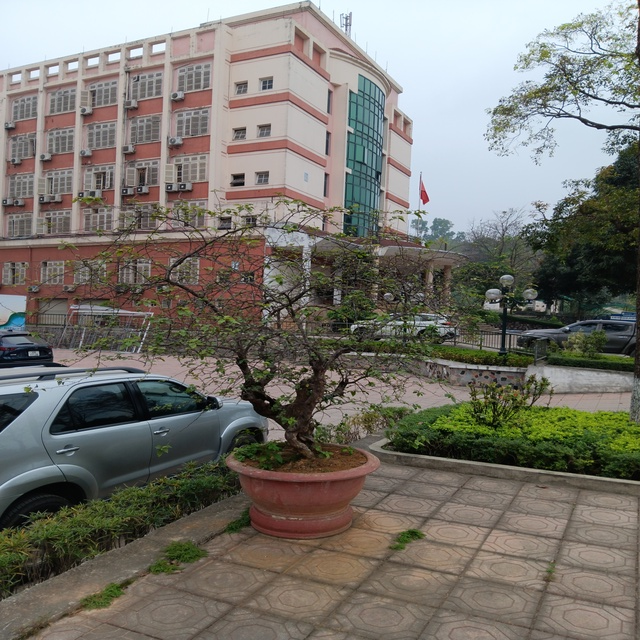caycanh: (149, 227, 431, 540)
